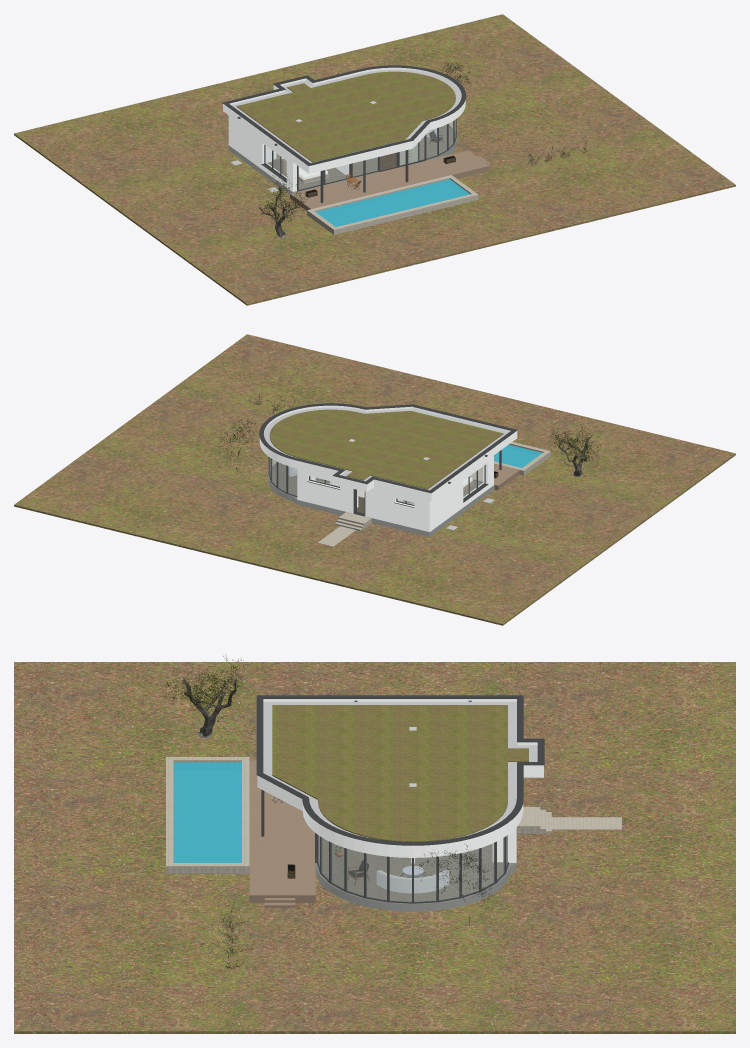
The model's file is futur3.glb.
3 views of the same model, one above another, from view 1: azimuth 30°, elevation 25°; view 2: azimuth 150°, elevation 25°; view 3: azimuth 270°, elevation 25° (orthographic). The views are drawn at different scales.
Parts seen in each view (by area): view 1: Ext, Shell, Glass; view 2: Ext, Shell, Glass; view 3: Ext, Shell, Glass.
Part boxes in pixels (bbox=[...]): Ext: bbox=[14, 14, 735, 305]; Shell: bbox=[222, 65, 465, 202]; Glass: bbox=[265, 120, 469, 226]; Ext: bbox=[14, 334, 735, 625]; Shell: bbox=[259, 403, 517, 536]; Glass: bbox=[269, 444, 542, 504]; Ext: bbox=[14, 654, 735, 1033]; Shell: bbox=[256, 695, 544, 911]; Glass: bbox=[173, 762, 507, 901].
Size of the model in its own units: 46 by 5.93 by 38.
Materials: 32 (32 with a texture image).
